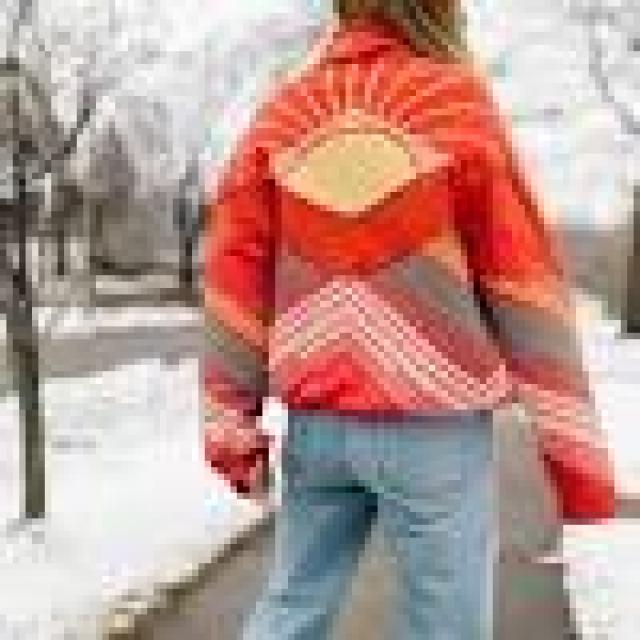Jacket: (192, 38, 628, 538)
